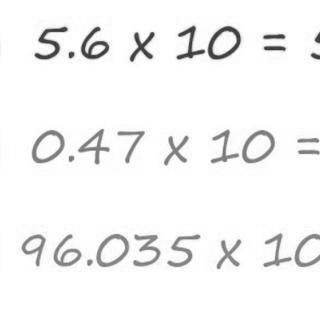.: (64, 152, 76, 168), (84, 252, 94, 269), (66, 47, 77, 61)
0: (235, 123, 277, 169), (26, 126, 67, 167), (94, 228, 132, 272), (203, 21, 243, 62)
1: (202, 120, 238, 167), (258, 227, 293, 272), (171, 25, 204, 62)
3: (129, 229, 162, 268)
4: (77, 123, 109, 167)
5: (162, 233, 205, 268), (34, 19, 66, 63)
6: (76, 22, 113, 62), (53, 233, 83, 271)
7: (108, 125, 147, 167)
9: (19, 224, 47, 273)
